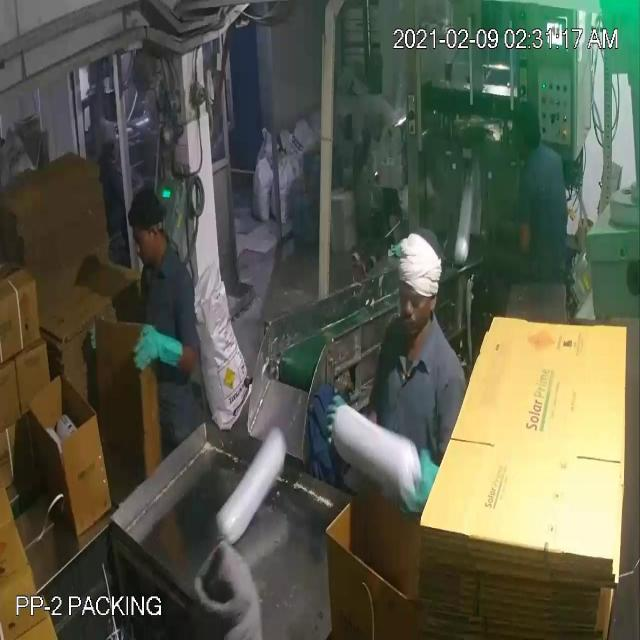Gloves: (54, 68, 422, 487)
